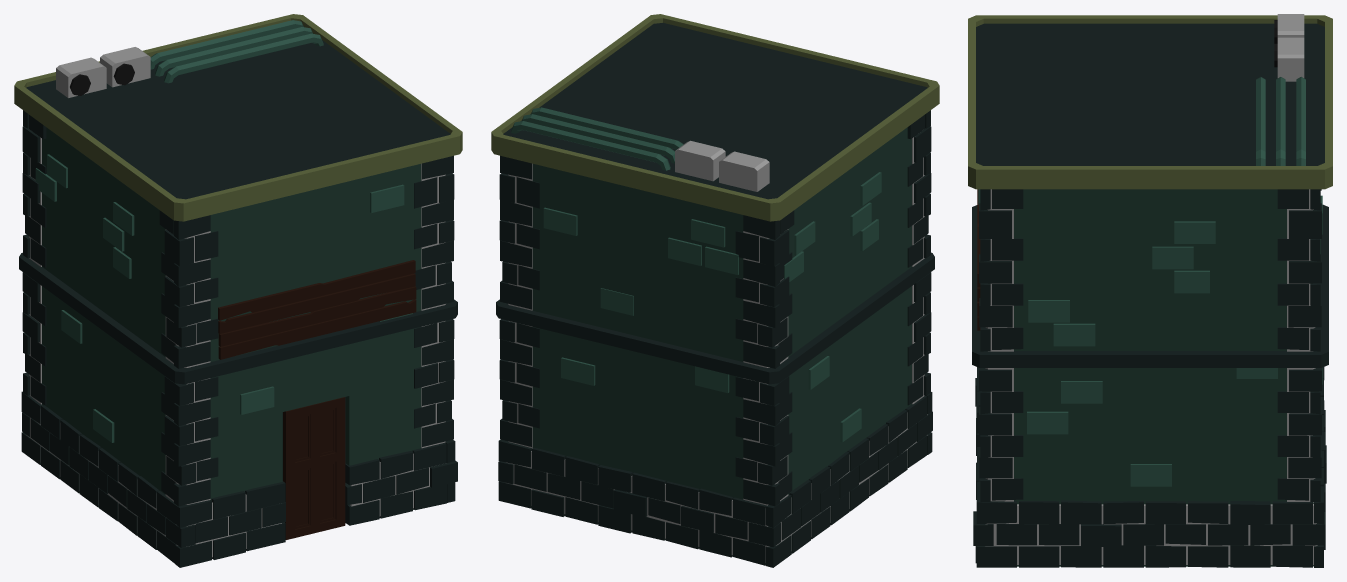
The model's file is bld_2Story_Sign_Mat.glb.
The picture shows the model from 3 angles, left to right: view 1: azimuth 30°, elevation 25°; view 2: azimuth 150°, elevation 25°; view 3: azimuth 270°, elevation 25°; orthographic projection. The views are drawn at different scales.
Visible parts, largest first — view 1: 2Story_Sign_Mat; view 2: 2Story_Sign_Mat; view 3: 2Story_Sign_Mat.
Boxes of the visible parts, x1=… form: 2Story_Sign_Mat: x1=14, y1=14, x2=462, y2=567; 2Story_Sign_Mat: x1=491, y1=14, x2=939, y2=567; 2Story_Sign_Mat: x1=968, y1=14, x2=1332, y2=567.
Size of the model in its own units: 215 by 276 by 215.
